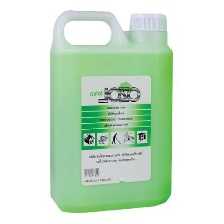cleaning_solution: (45, 8, 174, 215)
